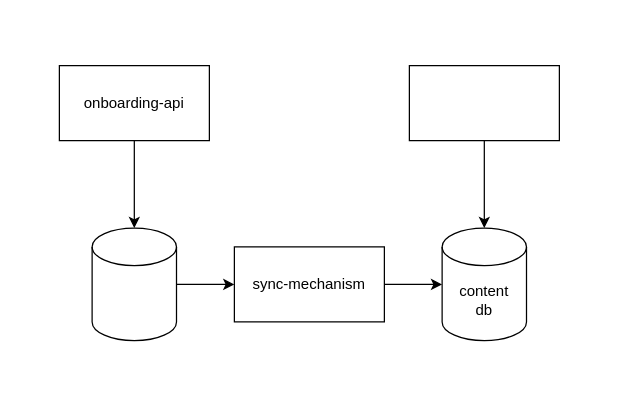
The diagram is 618 pixels wide and 405 high, and some of its shapes have lost their labels. The shapes that lost their labels are listed below. From the top down, each one's centre as x and y in pixels, then its label:
At point 483,102: "content-api".
At point 133,284: "onboarding db".
